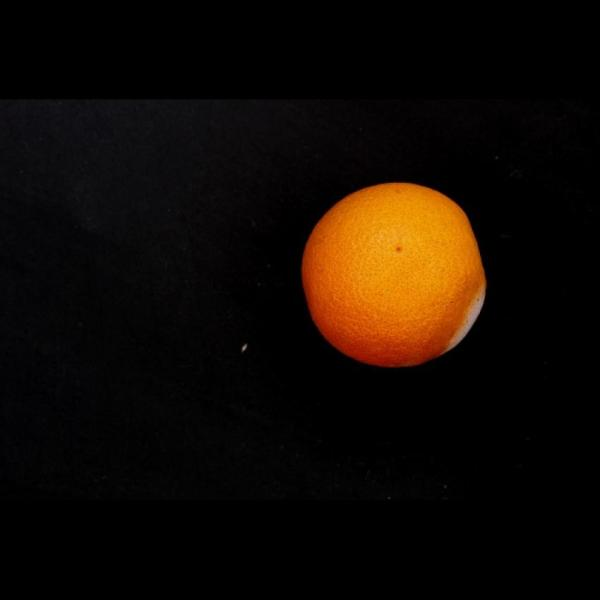Moho verde: (286, 170, 501, 378)
